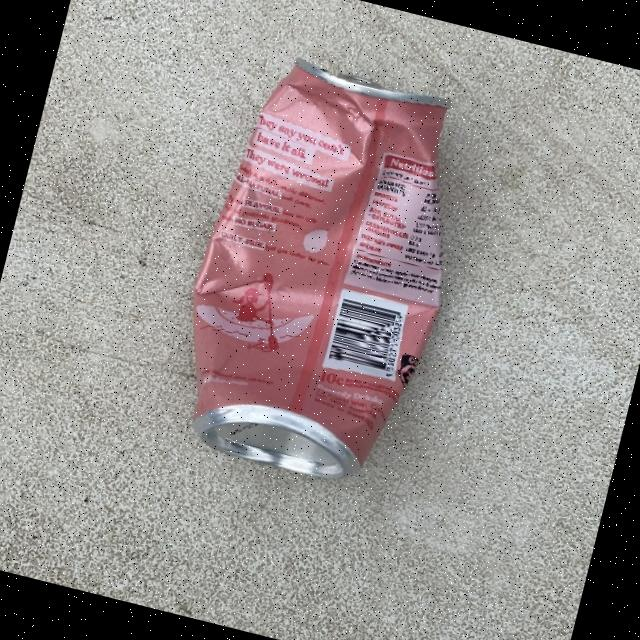metal: (156, 44, 490, 497)
